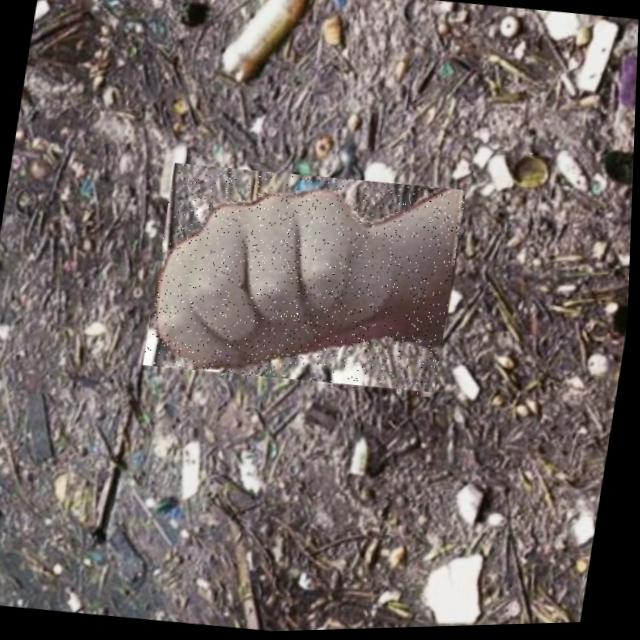Person in Rubble: (144, 156, 469, 404)
